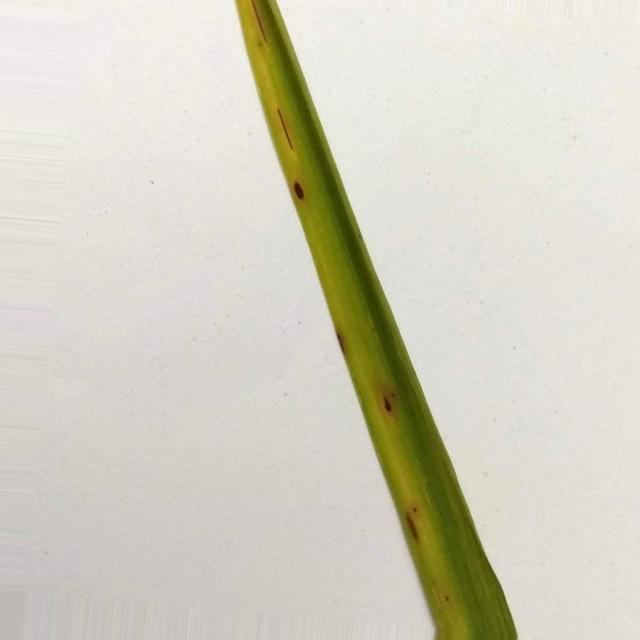Brown_Spot: (376, 389, 401, 424), (250, 0, 268, 42), (276, 108, 294, 150), (405, 512, 419, 542), (335, 329, 346, 354), (442, 588, 454, 609), (292, 181, 305, 200), (408, 501, 421, 515), (258, 0, 266, 9), (438, 590, 440, 597)
